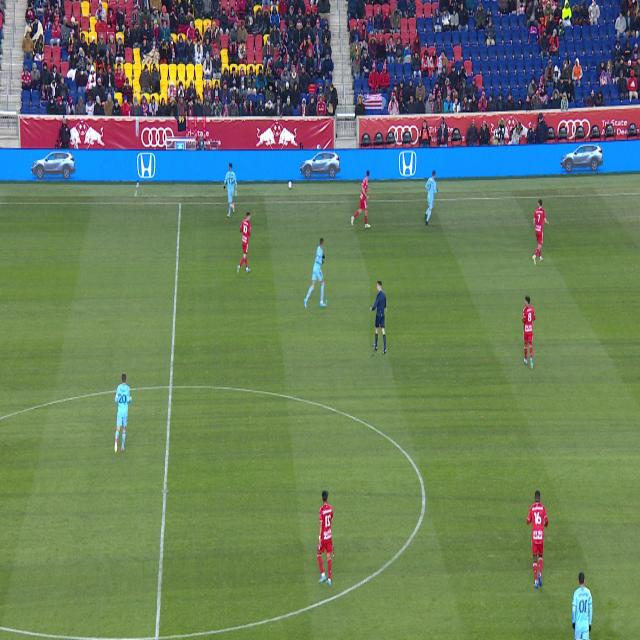player: (527, 491, 548, 588), (305, 239, 326, 310), (114, 373, 132, 453), (318, 491, 333, 585), (572, 573, 593, 640), (351, 170, 371, 228), (532, 199, 549, 266), (522, 295, 536, 369), (237, 211, 251, 274), (223, 163, 237, 218), (424, 170, 438, 225)
referee: (371, 281, 386, 355)
